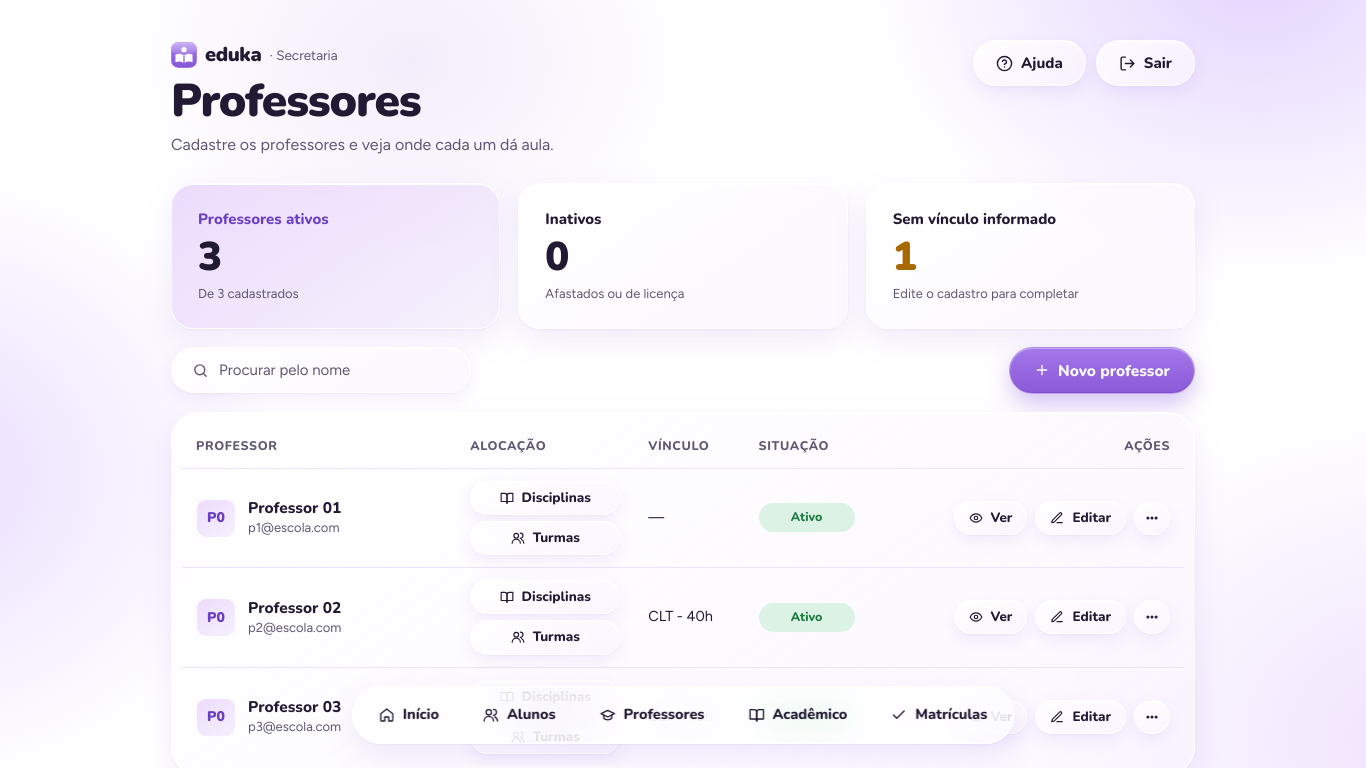
Test: Professores › a busca pelo nome vai ao backend, sem prometer a busca por disciplina
Expected: the text "Professor 01" is shown, [248,498,341,518]
Type "professor 02" into the search field named "Buscar professor pelo nome" at (334, 370), box [219,359,450,382]
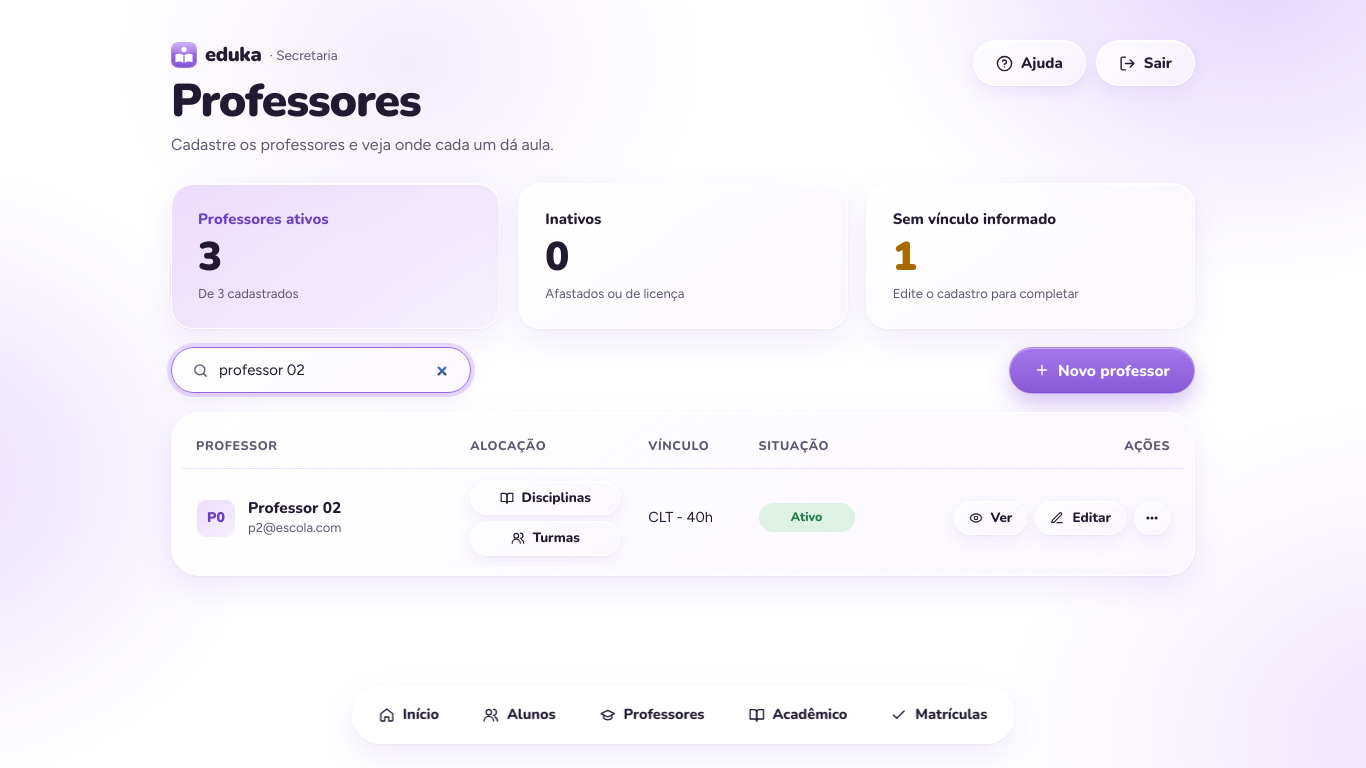
Expected: the text "Professor 02" is shown, [248,498,341,518]
Now the text "Professor 01" is gone
